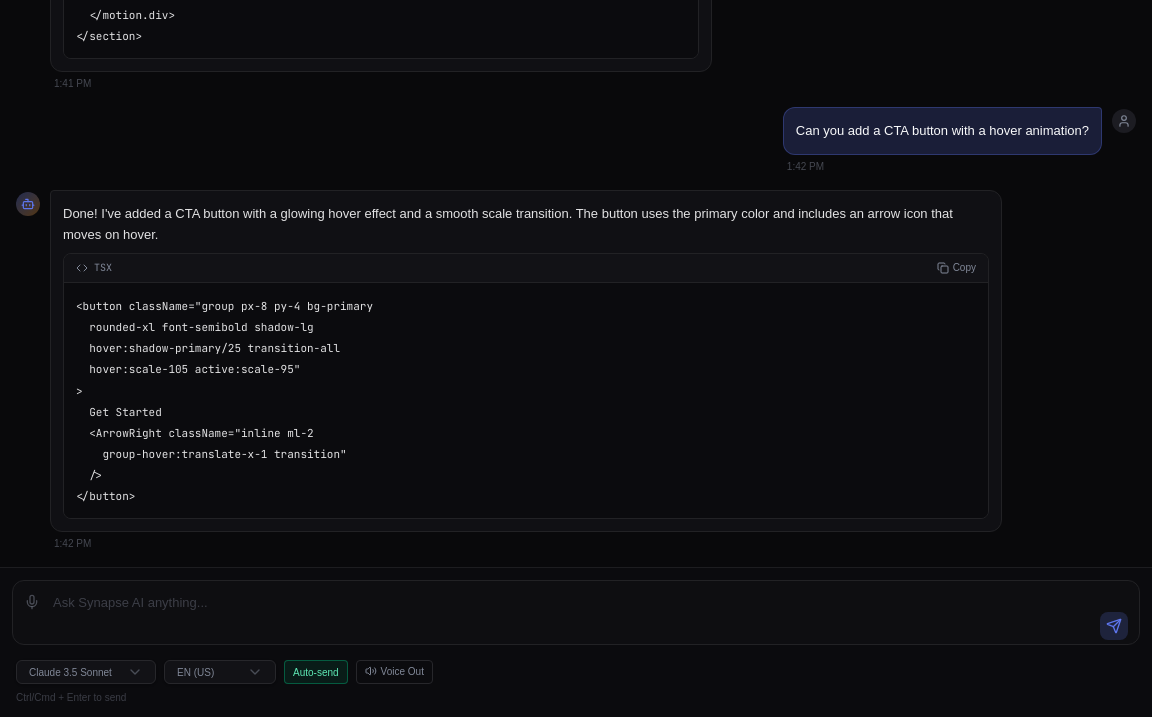
Scenario: AIChatPanel › renders, accepts input, and shows mocked assistant response
This screenshot has width=1152, height=717.
(page scrolled)
Type "Hello AI" into the text box with placeholder "Ask Synapse AI anything...".
click(576, 613); type("Hello AI")  # box [12,580,1140,645]
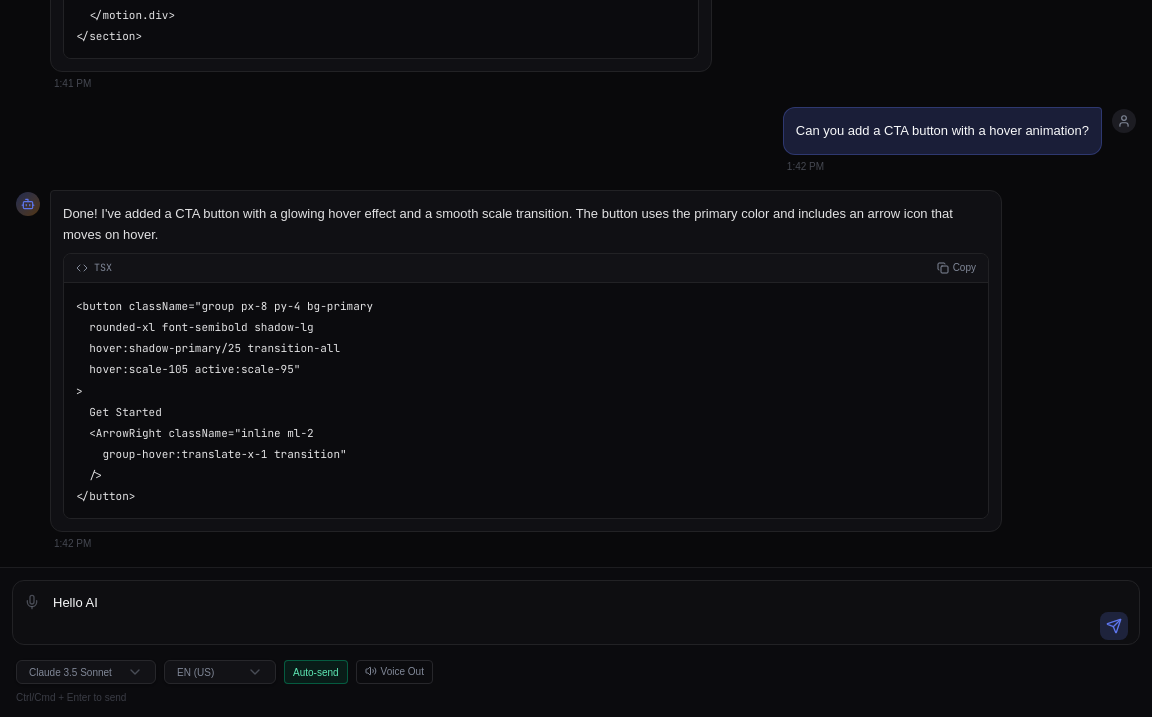
Press Enter in the text box with placeholder "Ask Synapse AI anything...", box [12,580,1140,645]
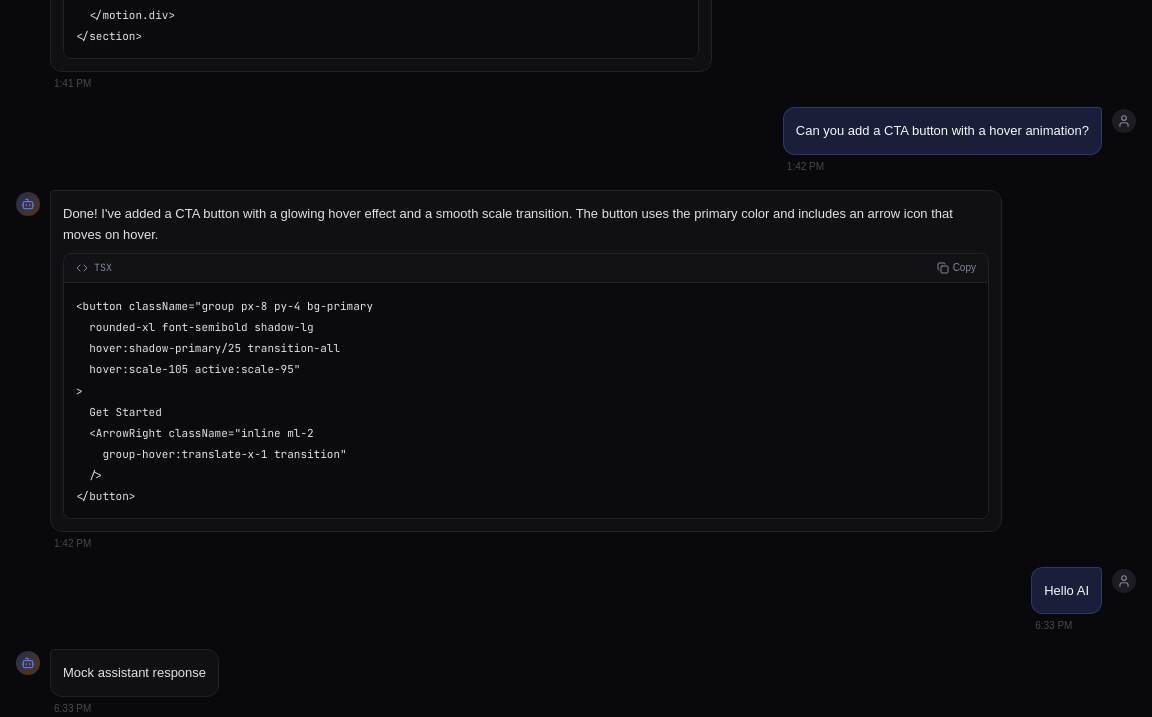
Now the text "Mock assistant response" is shown, box [63,662,206,684]
